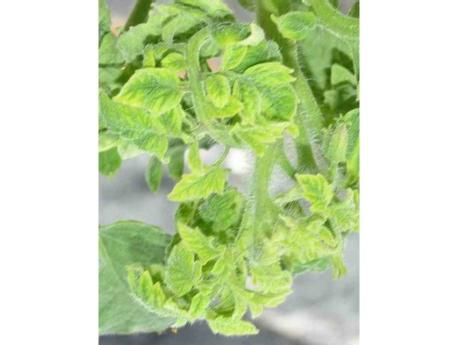Tomato leaf yellow virus: (239, 57, 298, 135), (115, 61, 191, 117), (127, 264, 191, 316), (164, 162, 241, 204), (179, 218, 220, 263), (297, 164, 330, 214)
